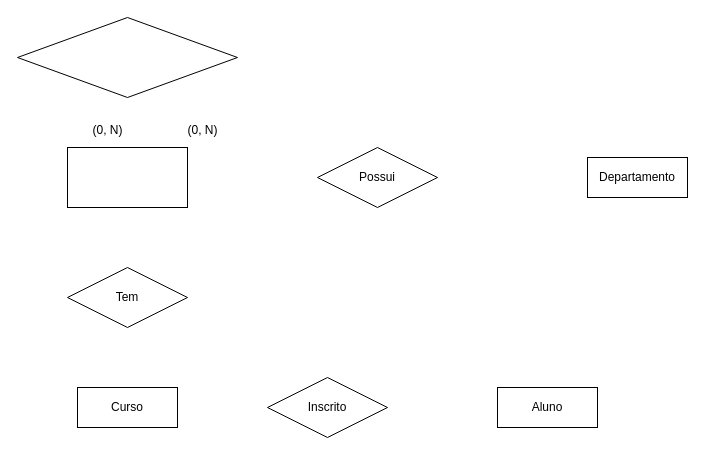
Some shapes in this 705 by 455 pixel diagram are drawn without their labels. Here are the shapes that lost their labels. From the top down, the centre of each, then its label:
At (127,57): "pré-requisito".
At (127,177): "Disciplina".
